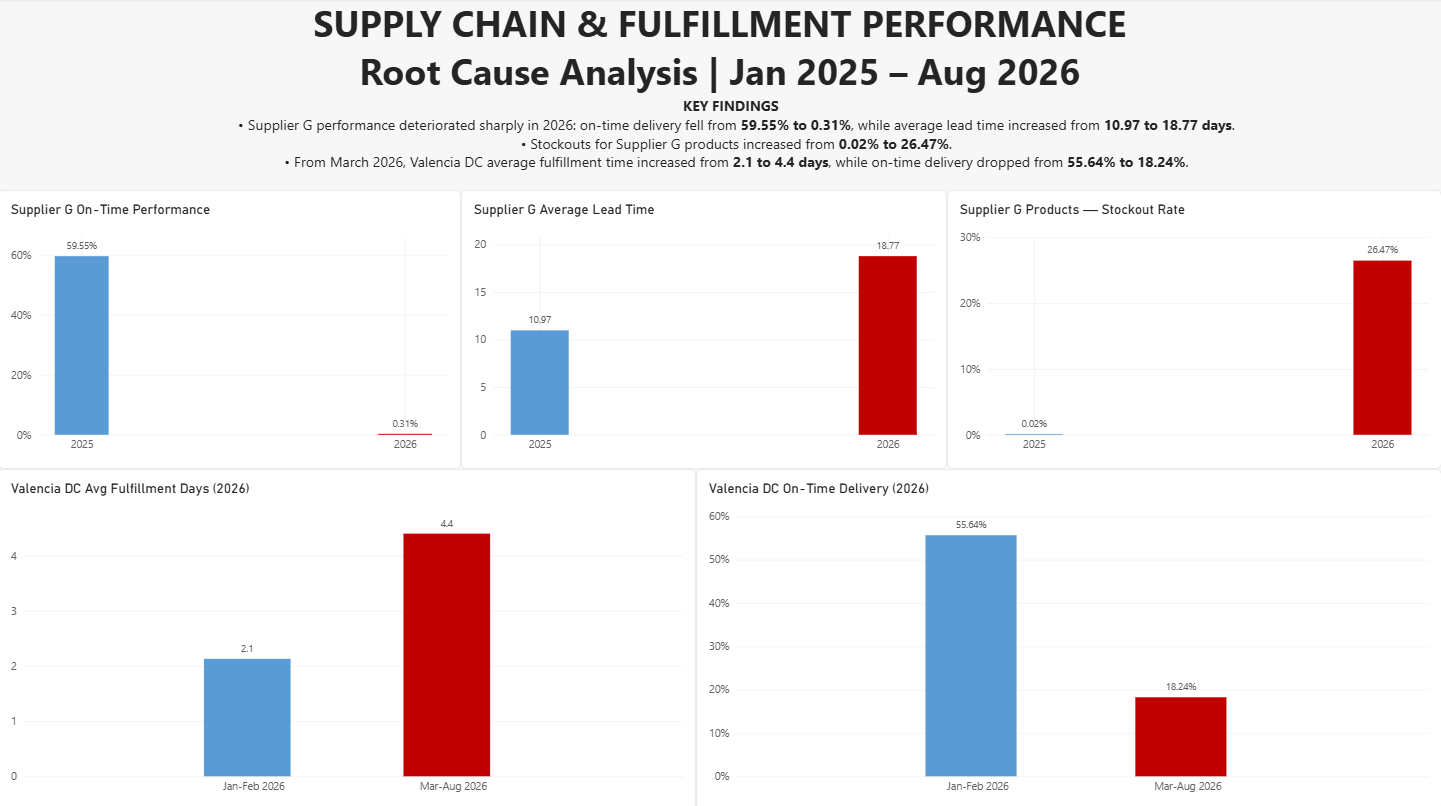

Layout of this report page (visuals, bound fields, positions):
{"tool":"powerbi","page":{"name":"Root Cause Analysis","canvas":[1920,1080],"ordinal":1},"visuals":[{"type":"textbox","box":[0,0,1920,129.8],"z":0},{"type":"clusteredColumnChart","title":"Supplier G On-Time Performance","fields":{"Category":["purchase_orders.order_date.Variation.Date Hierarchy.Year"],"Y":["purchase_orders.Supplier On-Time %"]},"box":[0,255.3,615.7,370.6],"z":1},{"type":"clusteredColumnChart","title":"Supplier G Average Lead Time","fields":{"Category":["purchase_orders.order_date.Variation.Date Hierarchy.Year"],"Y":["purchase_orders.Avg Supplier Lead Time"]},"box":[615.7,255.3,646.3,370.6],"z":2},{"type":"clusteredColumnChart","title":"Supplier G Products — Stockout Rate","fields":{"Category":["inventory.snapshot_date.Variation.Date Hierarchy.Year"],"Y":["inventory.Stockout Rate %"]},"box":[1262,255.3,658,370.6],"z":3},{"type":"clusteredColumnChart","title":"Valencia DC  Avg Fulfillment Days (2026)","fields":{"Category":["orders.Fulfillment Period"],"Y":["shipments.Avg Fulfillment Days"]},"box":[0,625.9,927.9,453.7],"z":4},{"type":"clusteredColumnChart","title":"Valencia DC  On-Time Delivery (2026)","fields":{"Category":["orders.Fulfillment Period"],"Y":["shipments.On-Time Delivery %"]},"box":[927.9,625.9,992.1,453.7],"z":5},{"type":"textbox","box":[179.5,129.8,1590.3,125.5],"z":6}]}

Visuals, with their boxes in screenshot pixels (x1, y1, x2, y2), scaled from the page's 1920x1080 canvas onto the 1441x806 screenshot:
textbox: (0,0,1440,97)
"Supplier G On-Time Performance" clusteredColumnChart: (0,191,462,467)
"Supplier G Average Lead Time" clusteredColumnChart: (462,191,947,467)
"Supplier G Products — Stockout Rate" clusteredColumnChart: (947,191,1440,467)
"Valencia DC  Avg Fulfillment Days (2026)" clusteredColumnChart: (0,467,696,805)
"Valencia DC  On-Time Delivery (2026)" clusteredColumnChart: (696,467,1440,805)
textbox: (135,97,1328,191)
